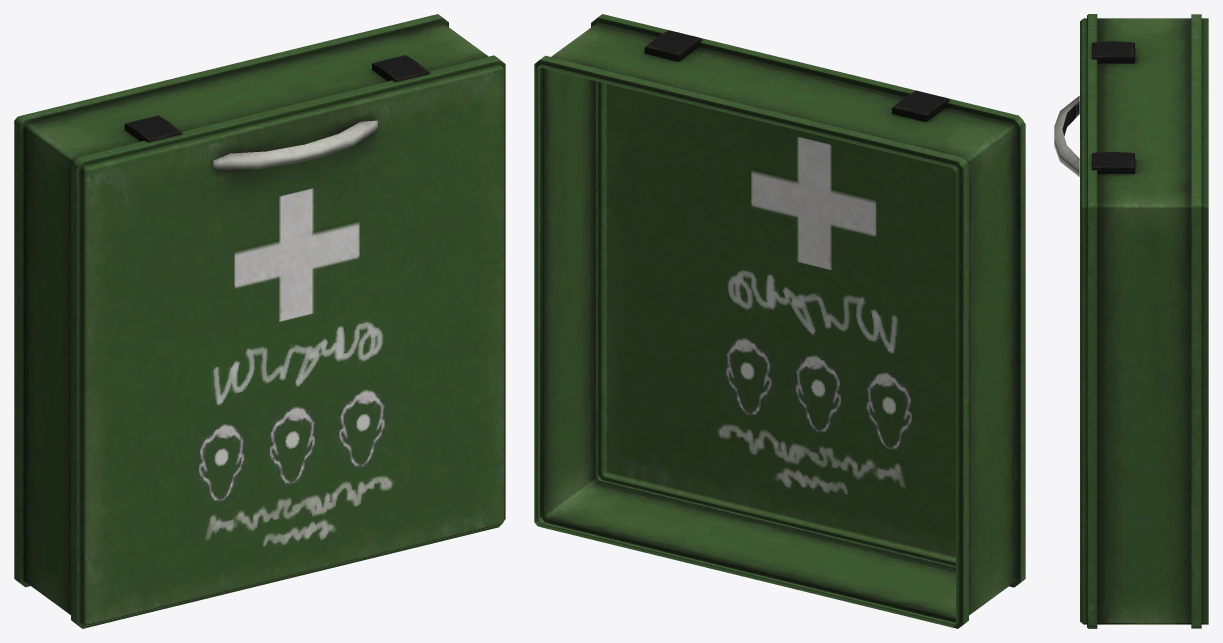
Rendered from first_aid_kit_box_wau.dae.
The picture shows the model from 3 angles, left to right: view 1: azimuth 30°, elevation 25°; view 2: azimuth 150°, elevation 25°; view 3: azimuth 270°, elevation 25°; orthographic projection. The views are drawn at different scales.
Visible parts, largest first — view 1: polySurface263, polySurface262; view 2: polySurface263, polySurface262; view 3: polySurface262, polySurface263.
Part boxes in pixels (x1,y1,x2,y2): polySurface263: (71,55,505,628); polySurface262: (14,14,488,614); polySurface263: (591,14,1025,587); polySurface262: (534,22,1016,628); polySurface262: (1092,14,1208,628); polySurface263: (1054,14,1097,628).
Size of the model in its own units: 58.57 by 61.47 by 19.92.
